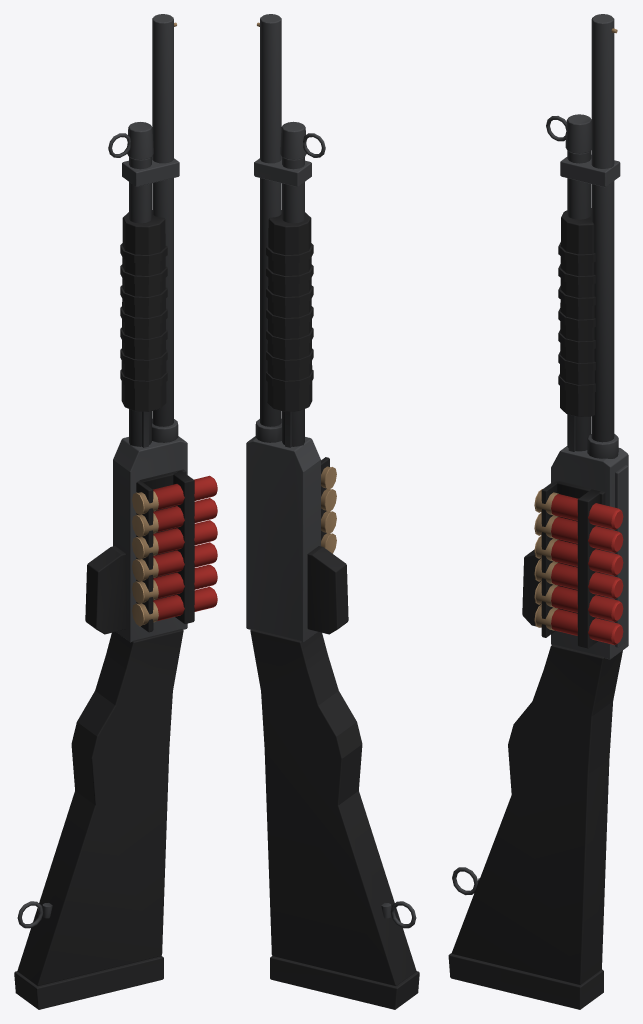
File: armory_shotgun.gltf
3 renders of one model, left to right at view 1: azimuth 30°, elevation 25°; view 2: azimuth 150°, elevation 25°; view 3: azimuth 330°, elevation 25°, orthographic. The views are drawn at different scales.
Visible parts, largest first — view 1: ArmoryShotgun_Polymer, ArmoryShotgun_Metal, ArmoryShotgun_Shells, ArmoryShotgun_Polymer_Detail, ArmoryShotgun_Brass, ArmoryShotgun_Metal_Detail; view 2: ArmoryShotgun_Polymer, ArmoryShotgun_Metal, ArmoryShotgun_Polymer_Detail, ArmoryShotgun_Brass, ArmoryShotgun_Metal_Detail; view 3: ArmoryShotgun_Polymer, ArmoryShotgun_Metal, ArmoryShotgun_Shells, ArmoryShotgun_Polymer_Detail, ArmoryShotgun_Brass, ArmoryShotgun_Metal_Detail.
Part boxes in pixels (x1,y1,x2,y2): ArmoryShotgun_Polymer: (14,210,194,1009); ArmoryShotgun_Metal: (113,14,187,642); ArmoryShotgun_Shells: (153,475,217,620); ArmoryShotgun_Polymer_Detail: (120,243,167,389); ArmoryShotgun_Brass: (132,22,176,626); ArmoryShotgun_Metal_Detail: (17,133,148,928); ArmoryShotgun_Polymer: (250,210,419,1009); ArmoryShotgun_Metal: (246,14,320,642); ArmoryShotgun_Polymer_Detail: (266,243,313,389); ArmoryShotgun_Brass: (257,22,336,553); ArmoryShotgun_Metal_Detail: (285,133,416,928); ArmoryShotgun_Polymer: (448,208,622,1009); ArmoryShotgun_Metal: (551,14,628,659); ArmoryShotgun_Shells: (551,494,623,644); ArmoryShotgun_Polymer_Detail: (558,242,595,393); ArmoryShotgun_Brass: (534,28,617,630); ArmoryShotgun_Metal_Detail: (452,116,575,895).
Size of the model in its own units: 0.1962 by 1 by 0.0666.
